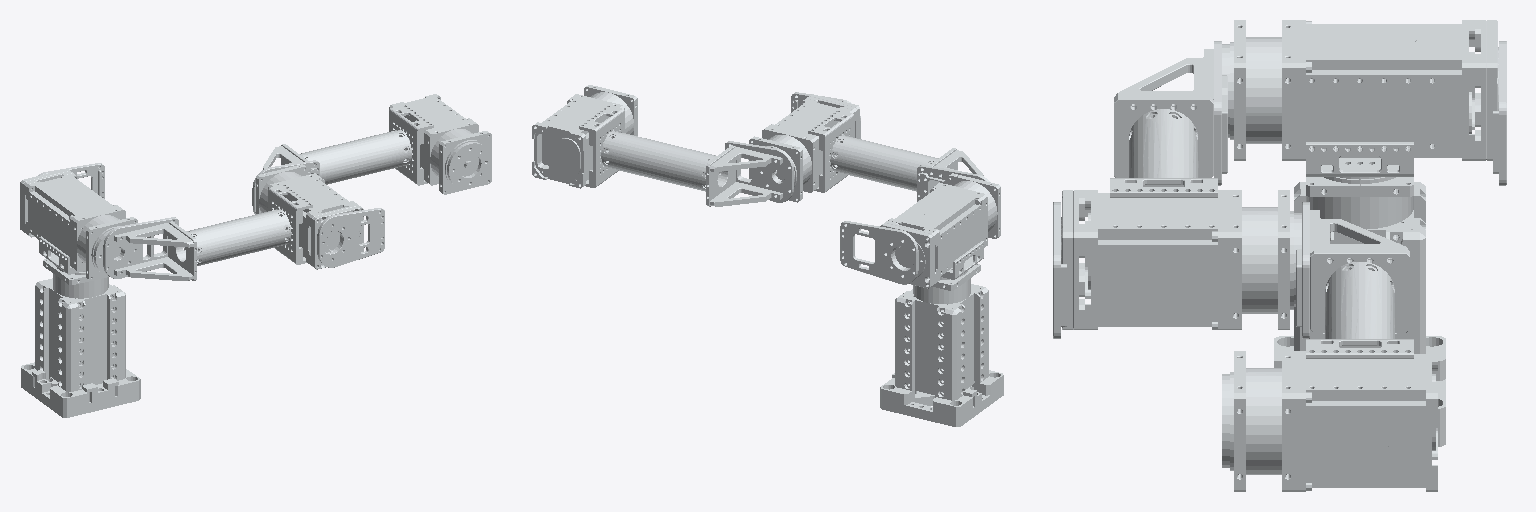
URDF robot description (single_arm_v22_19cm):
<?xml version="1.0" encoding="utf-8"?>
<!-- This URDF was automatically created by SolidWorks to URDF Exporter! Originally created by [author] ([email redacted]) 
     Commit Version: 1.6.0-4-g7f85cfe  Build Version: 1.6.7995.38578
     For more information, please see http://wiki.ros.org/sw_urdf_exporter -->
<robot
  name="single_arm_v22_19cm">
  <link name="dummy"/>
  <joint name="dummy_joint" type="fixed">
    <parent link="dummy"/>
    <child link="base_link"/>
    </joint>
  <link name='base_link'>
  <!-- <link
    name="base_link"> -->
    <inertial>
      <origin
        xyz="-0.00010098 -0.00035109 0.054127"
        rpy="0 0 0" />
      <mass
        value="2.94316" />
      <inertia
        ixx="0.00082016"
        ixy="3.555E-10"
        ixz="-4.1821E-06"
        iyy="0.00081979"
        iyz="-1.4527E-07"
        izz="0.00035328" />
    </inertial>
    <visual>
      <origin
        xyz="0 0 0"
        rpy="0 0 0" />
      <geometry>
        <mesh
          filename="package://single_arm_v22_19cm/meshes/base_link.STL" />
      </geometry>
      <material
        name="">
        <color
          rgba="0.89804 0.91765 0.92941 1" />
      </material>
    </visual>
    <collision>
      <origin
        xyz="0 0 0"
        rpy="0 0 0" />
      <geometry>
        <mesh
          filename="package://single_arm_v22_19cm/meshes/base_link.STL" />
      </geometry>
    </collision>
  </link>
  <link
    name="link1">
    <inertial>
      <origin
        xyz="3.305E-06 0.0036146 0.029085"
        rpy="0 0 0" />
      <mass
        value="0.93428" />
      <inertia
        ixx="0.00048112"
        ixy="-7.0827E-08"
        ixz="-3.5566E-10"
        iyy="0.00018986"
        iyz="4.1821E-06"
        izz="0.0004948" />
    </inertial>
    <visual>
      <origin
        xyz="0 0 0"
        rpy="0 0 0" />
      <geometry>
        <mesh
          filename="package://single_arm_v22_19cm/meshes/link1.STL" />
      </geometry>
      <material
        name="">
        <color
          rgba="0.89804 0.91765 0.92941 1" />
      </material>
    </visual>
    <collision>
      <origin
        xyz="0 0 0"
        rpy="0 0 0" />
      <geometry>
        <mesh
          filename="package://single_arm_v22_19cm/meshes/link1.STL" />
      </geometry>
    </collision>
  </link>
  <joint
    name="joint1"
    type="revolute">
    <origin
      xyz="0 0 0.1445"
      rpy="0 0 0" />
    <parent
      link="base_link" />
    <child
      link="link1" />
    <axis
      xyz="0 0 1" />
    <limit
      lower="-3.14"
      upper="3.14"
      effort="0"
      velocity="0" />
  </joint>
  <link
    name="link2">
    <inertial>
      <origin
        xyz="0.13085 2.3588E-07 0.0069014"
        rpy="0 0 0" />
      <mass
        value="1.07602" />
      <inertia
        ixx="0.00052683"
        ixy="-1.872E-12"
        ixz="3.6733E-07"
        iyy="0.00061287"
        iyz="-4.2672E-10"
        izz="0.00035484" />
    </inertial>
    <visual>
      <origin
        xyz="0 0 0"
        rpy="0 0 0" />
      <geometry>
        <mesh
          filename="package://dynamics/src/dynamics/meshes/merged_single_arm_v22_axis_2.STL" />
      </geometry>
      <material
        name="">
        <color
          rgba="0.89804 0.91765 0.92941 1" />
      </material>
    </visual>
    <collision>
      <origin
        xyz="0 0 0"
        rpy="0 0 0" />
      <geometry>
        <mesh
          filename="package://dynamics/src/dynamics/meshes/merged_single_arm_v22_axis_2.STL" />
      </geometry>
    </collision>
  </link>
  <joint
    name="joint2"
    type="revolute">
    <origin
      xyz="0 -0.0685 0.0315"
      rpy="1.5708 0 0" />
    <parent
      link="link1" />
    <child
      link="link2" />
    <axis
      xyz="0 0 1" />
    <limit
      lower="-3.14"
      upper="3.14"
      effort="0"
      velocity="0" />
  </joint>
  <link
    name="link3">
    <inertial>
      <origin
        xyz="0.12526 2.0553E-07 -0.0051296"
        rpy="0 0 0" />
      <mass
        value="1.00039" />
      <inertia
        ixx="0.00046554"
        ixy="-1.0231E-11"
        ixz="-1.2577E-06"
        iyy="0.00056731"
        iyz="-9.0438E-10"
        izz="0.00033638" />
    </inertial>
    <visual>
      <origin
        xyz="0 0 0"
        rpy="0 0 0" />
      <geometry>
        <mesh
          filename="package://dynamics/src/dynamics/meshes/merged_single_arm_v22_axis_3.STL" />
      </geometry>
      <material
        name="">
        <color
          rgba="0.89804 0.91765 0.92941 1" />
      </material>
    </visual>
    <collision>
      <origin
        xyz="0 0 0"
        rpy="0 0 0" />
      <geometry>
        <mesh
          filename="package://dynamics/src/dynamics/meshes/merged_single_arm_v22_axis_3.STL" />
      </geometry>
    </collision>
  </link>
  <joint
    name="joint3"
    type="revolute">
    <origin
      xyz="0.19 0 -0.0390000000000001"
      rpy="0 0 0" />
    <parent
      link="link2" />
    <child
      link="link3" />
    <axis
      xyz="0 0 -1" />
    <limit
      lower="-3.14"
      upper="3.14"
      effort="0"
      velocity="0" />
  </joint>
</robot>

--- Facts derived from the render (not from the file) ---
Views: 3 orthographic renders of the robot side by side, from view 1: azimuth 30°, elevation 25°; view 2: azimuth 150°, elevation 25°; view 3: azimuth 270°, elevation 25°.
Model single_arm_v22_19cm with 5 links and 4 joints (3 revolute, 1 fixed), rooted at dummy, posed every joint at zero.
Visible links, largest first — view 1: link2, link3, base_link, link1; view 2: link3, link2, base_link, link1; view 3: link2, link3, link1, base_link.
Link boxes in pixels (x1,y1,x2,y2): link2: [38, 163, 363, 280]; link3: [252, 94, 491, 267]; base_link: [21, 259, 140, 417]; link1: [20, 169, 137, 280]; link3: [532, 85, 860, 206]; link2: [749, 94, 989, 284]; base_link: [880, 263, 1003, 426]; link1: [880, 173, 1000, 288]; link2: [1061, 41, 1506, 329]; link3: [1053, 202, 1437, 491]; link1: [1222, 20, 1498, 176]; base_link: [1274, 177, 1445, 446].
Size in the robot's own frame: 0.46 by 0.226 by 0.206 metres.
Meshes: 4 distinct files referenced, 4 mesh visuals loaded (4 binary STL).